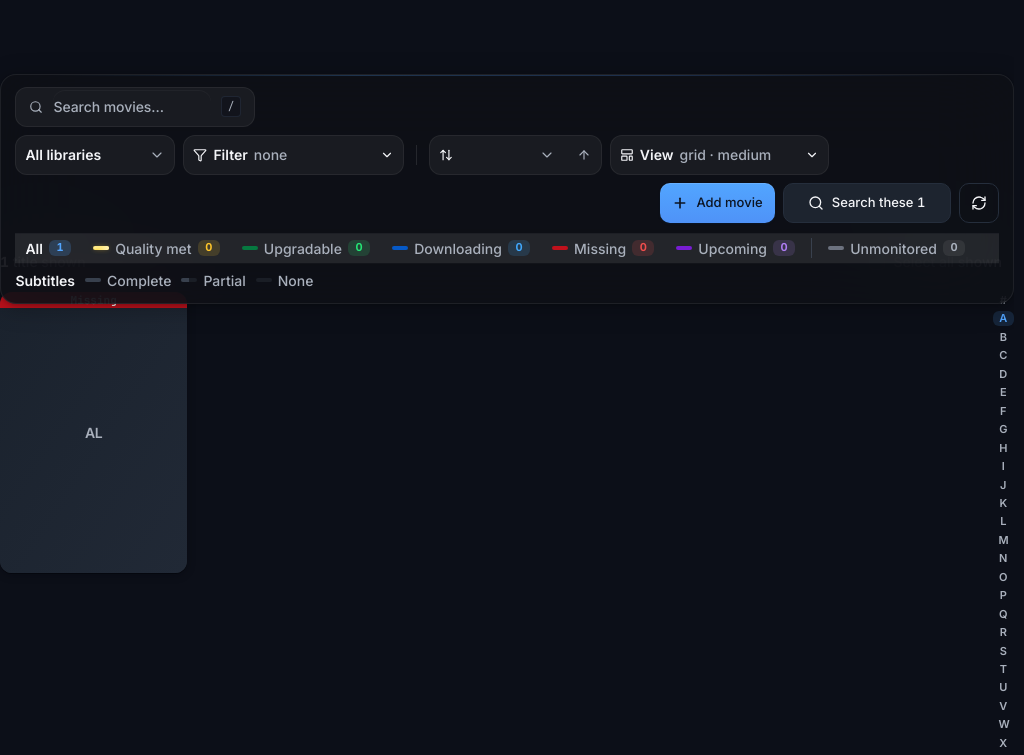
it: applying a saved filter › says where it looks and what it narrows, and an unreadable condition list reads as no narrowing
Expected: the button "Search these 1" is shown, x1=783 y1=183 x2=951 y2=223
Click the text "Filter": (231, 155) x1=213 y1=144 x2=248 y2=165
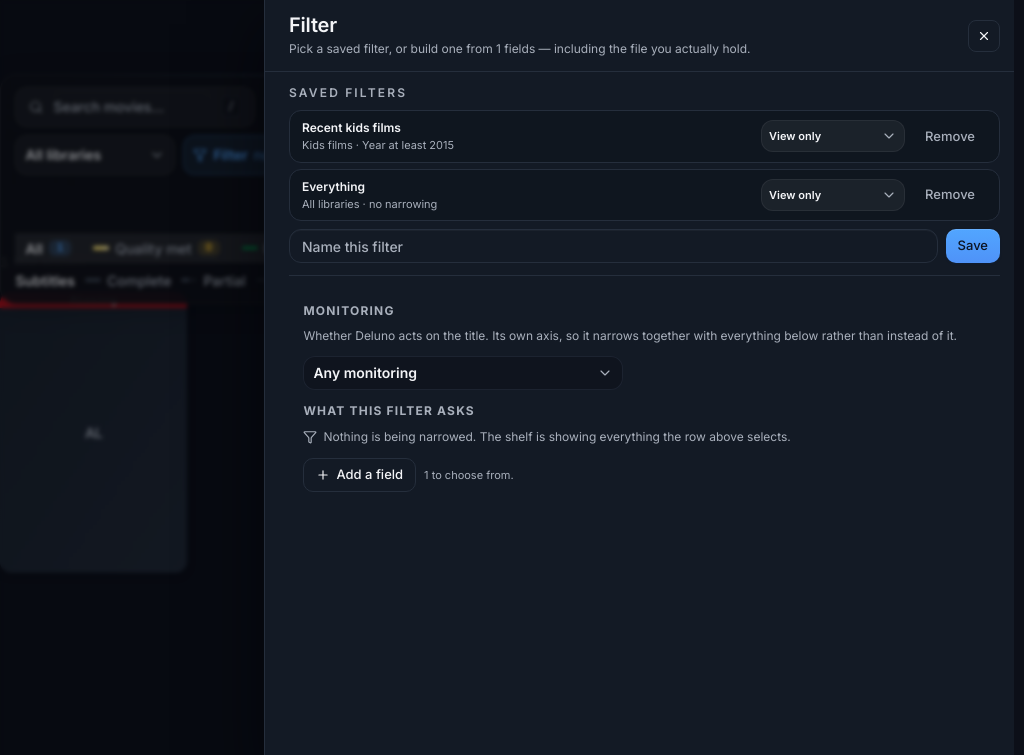
Result: the text "Kids films · Year at least 2015" is shown at x1=302 y1=138 x2=454 y2=152
Result: the text "All libraries · no narrowing" is shown at x1=302 y1=196 x2=437 y2=210
